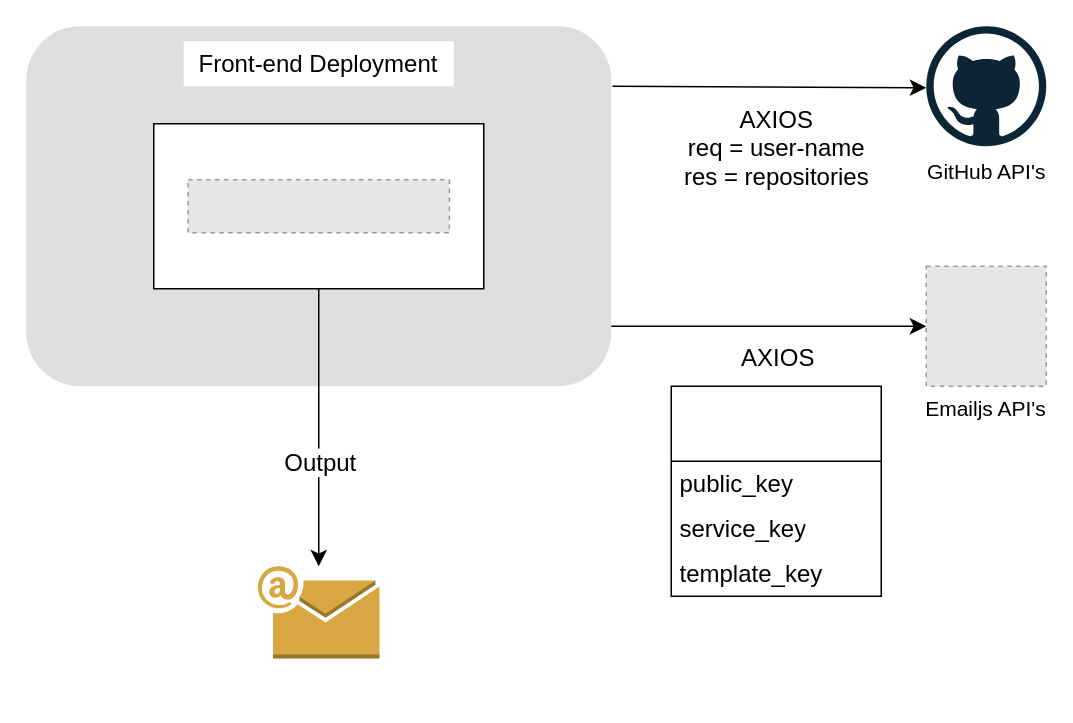
The diagram is 1073 pixels wide and 723 high, and some of its shapes have lost their labels. Grey dashed boxes stand in for pictures. Here are the shapes that lost their labels. From the top down, the box of each, then its label:
(670, 385, 881, 596): Request - requeriments
(256, 565, 380, 658): E-mail
